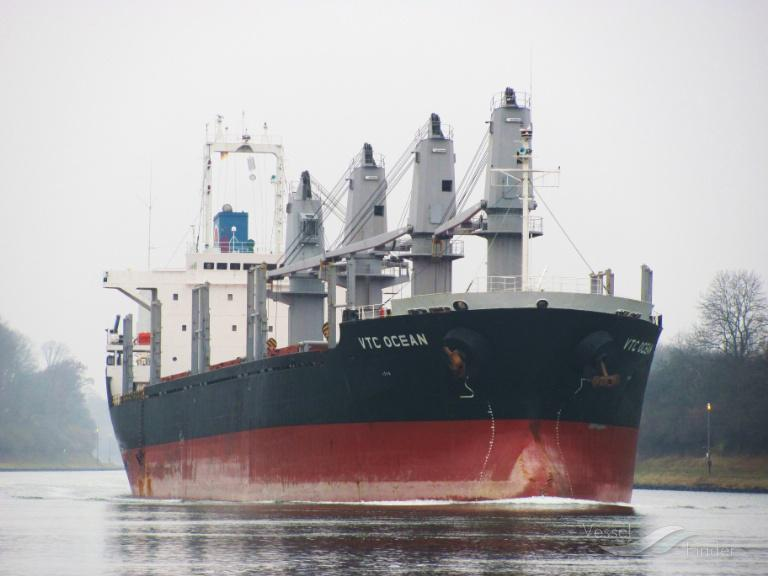OCR: (348, 328, 432, 355), (620, 333, 658, 358)
